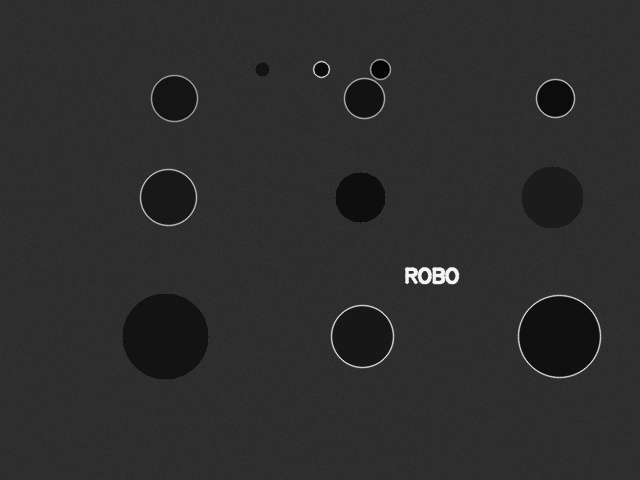hole: (122, 293, 208, 379), (518, 295, 600, 377), (521, 166, 583, 228), (331, 305, 393, 367), (140, 169, 196, 225), (335, 172, 385, 222), (151, 75, 197, 121), (344, 78, 384, 118), (536, 79, 574, 117), (370, 59, 390, 79), (313, 61, 329, 77), (255, 62, 269, 76)
